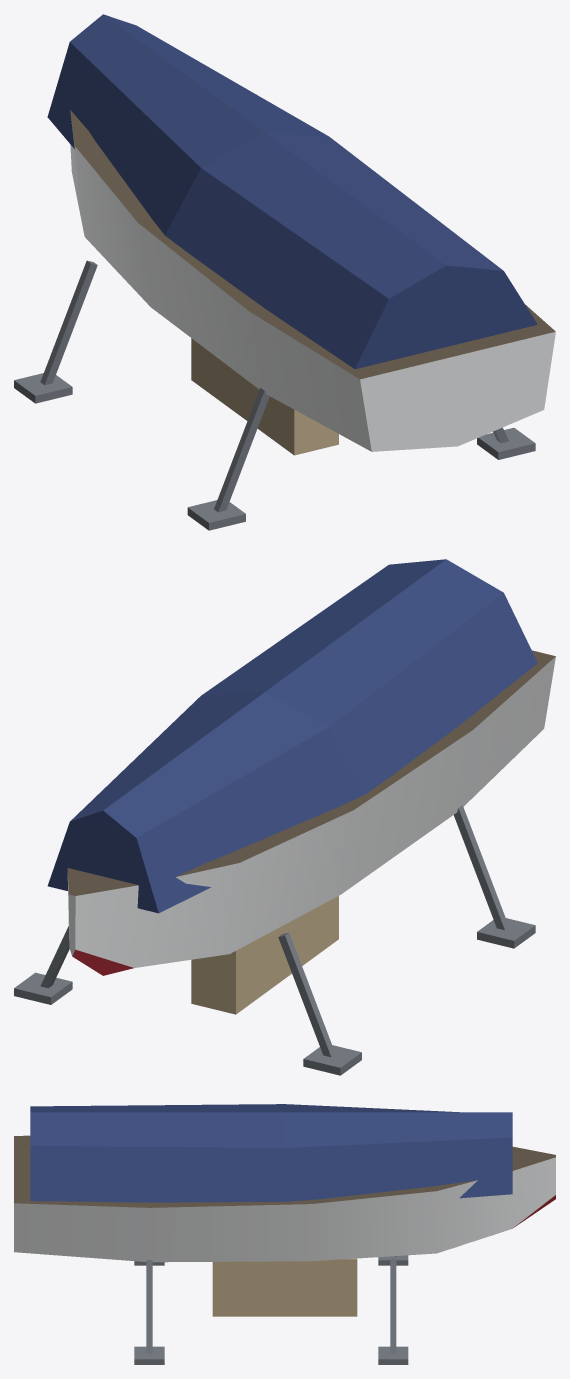
Rendered from port_cargo3.fbx.
3 views of the same model, one above another, from view 1: azimuth 30°, elevation 25°; view 2: azimuth 150°, elevation 25°; view 3: azimuth 270°, elevation 25° (orthographic). The views are drawn at different scales.
Parts seen in each view (by area): view 1: a1095_0_port_cargo3; view 2: a1095_0_port_cargo3; view 3: a1095_0_port_cargo3.
Boxes of the visible parts, box(x1,y1,x2,y2) form: a1095_0_port_cargo3: box(14, 14, 555, 530); a1095_0_port_cargo3: box(14, 559, 555, 1075); a1095_0_port_cargo3: box(14, 1104, 555, 1364).
Bounding box in the file's own units: 4.4 × 3.62 × 9.
